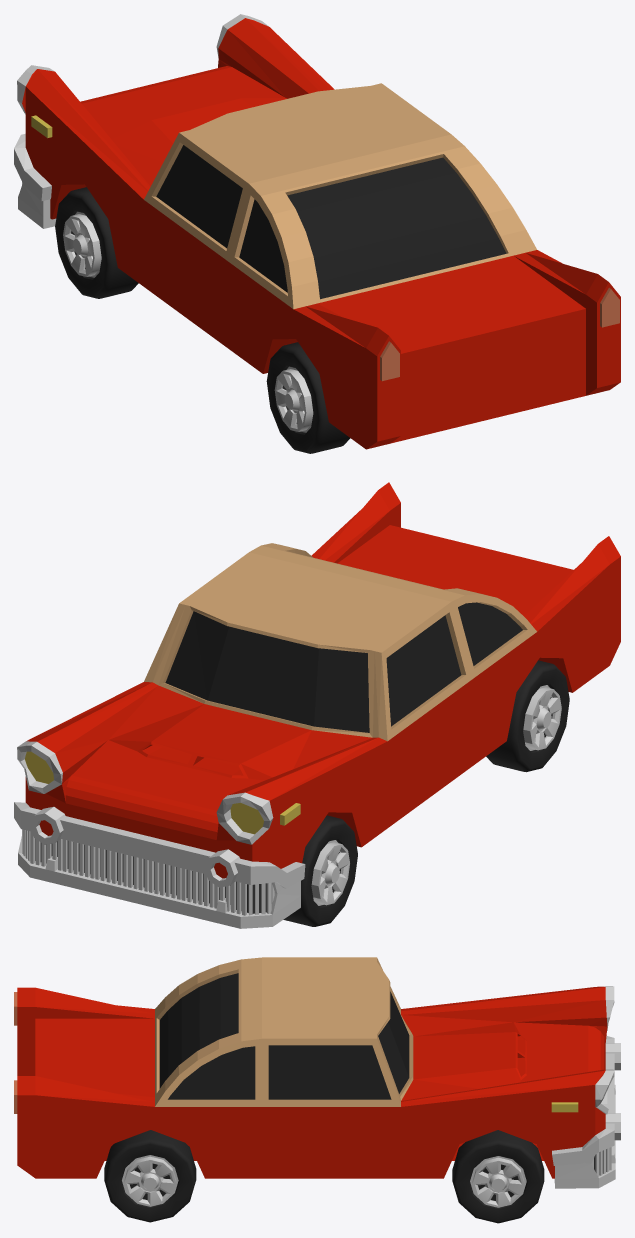
File: car0.dae
3 views of the same model, one above another, from view 1: azimuth 30°, elevation 25°; view 2: azimuth 150°, elevation 25°; view 3: azimuth 270°, elevation 25° (orthographic). The views are drawn at different scales.
Visible parts, largest first — view 1: Cube_003, Cylinder_018, Cylinder_017; view 2: Cube_003, Cylinder_017, Cylinder_018; view 3: Cube_003, Cylinder_019, Cylinder_016.
Boxes of the visible parts, x1,y1,x2,y2 form: Cube_003: [14, 14, 620, 449]; Cylinder_018: [55, 187, 138, 298]; Cylinder_017: [266, 342, 350, 453]; Cube_003: [14, 482, 620, 928]; Cylinder_017: [486, 660, 569, 772]; Cylinder_018: [283, 815, 357, 926]; Cube_003: [14, 957, 620, 1188]; Cylinder_019: [452, 1130, 544, 1223]; Cylinder_016: [104, 1130, 196, 1222].
Size of the model in its own units: 4.01 by 9.65 by 3.06.
